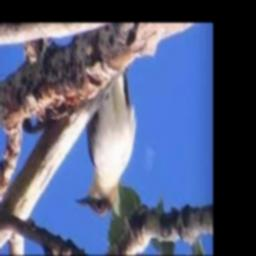Cuckoo: (73, 72, 136, 215)
